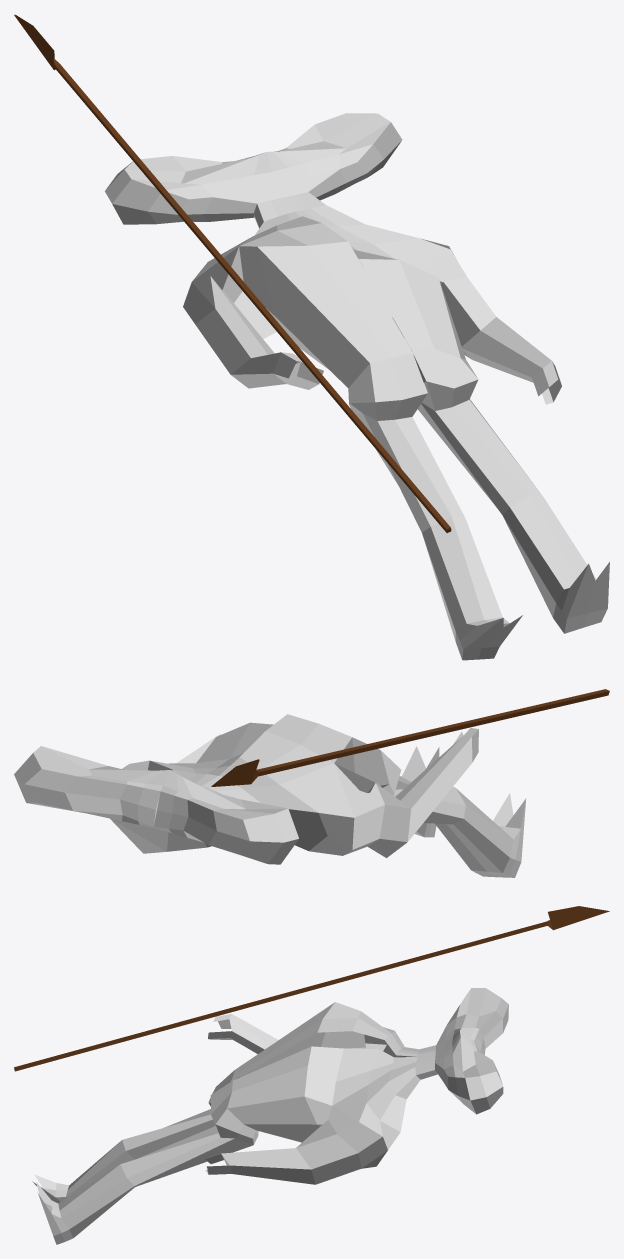
The model's file is Spearman2d.obj.
3 views of the same model, one above another, from view 1: azimuth 30°, elevation 25°; view 2: azimuth 150°, elevation 25°; view 3: azimuth 270°, elevation 25° (orthographic). The views are drawn at different scales.
Parts seen in each view (by area): view 1: Cube; view 2: Cube; view 3: Cube.
Boxes of the visible parts, x1,y1,x2,y2 form: Cube: [14, 14, 609, 660]; Cube: [14, 689, 609, 877]; Cube: [14, 906, 609, 1244].
Bounding box in the file's own units: 0.7311 × 0.942 × 1.79.
